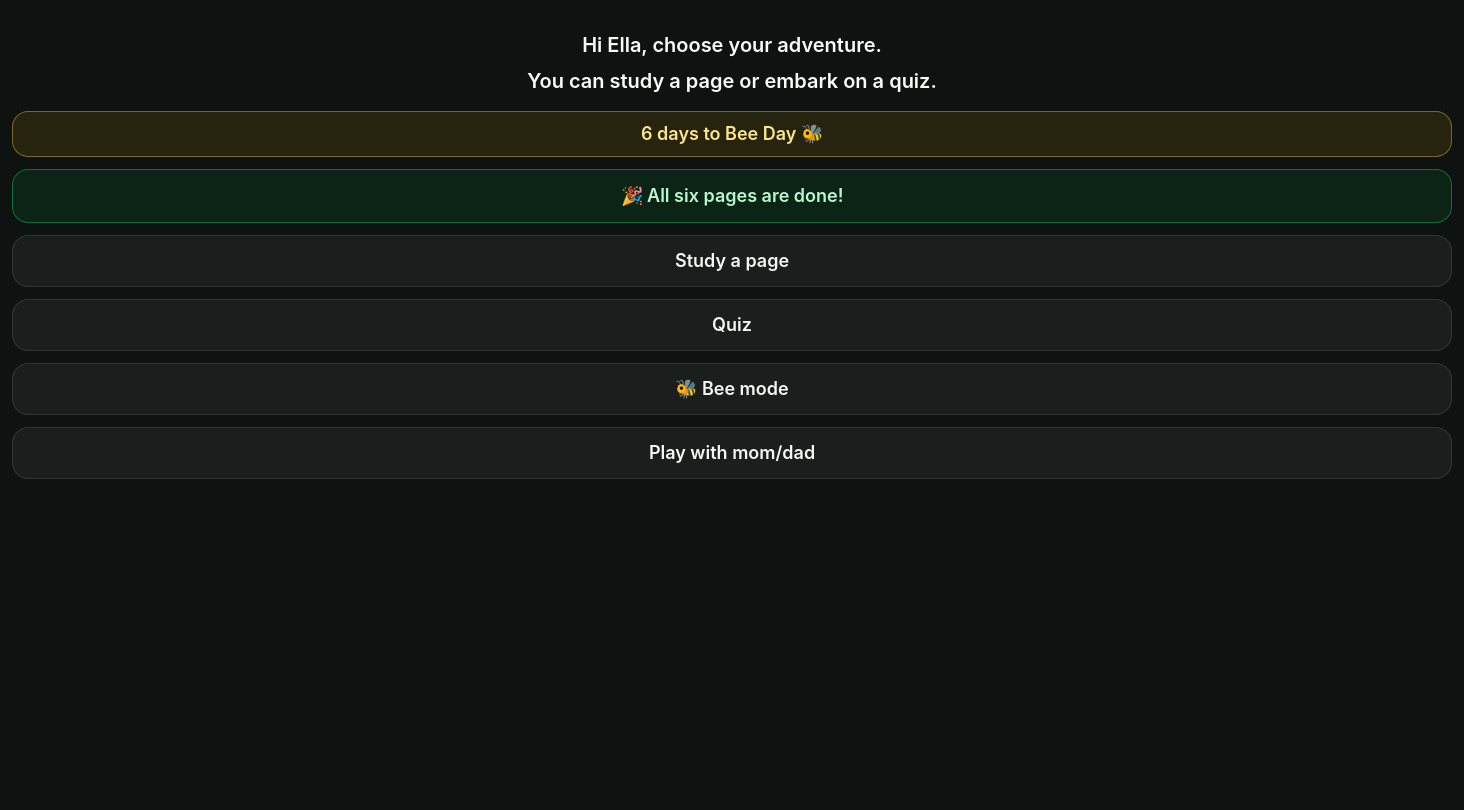
Test: choice screen › returns to the page list and plays the page line
This screenshot has width=1464, height=810.
Click the button "Study a page" at [732, 261], box [12,235,1452,287]
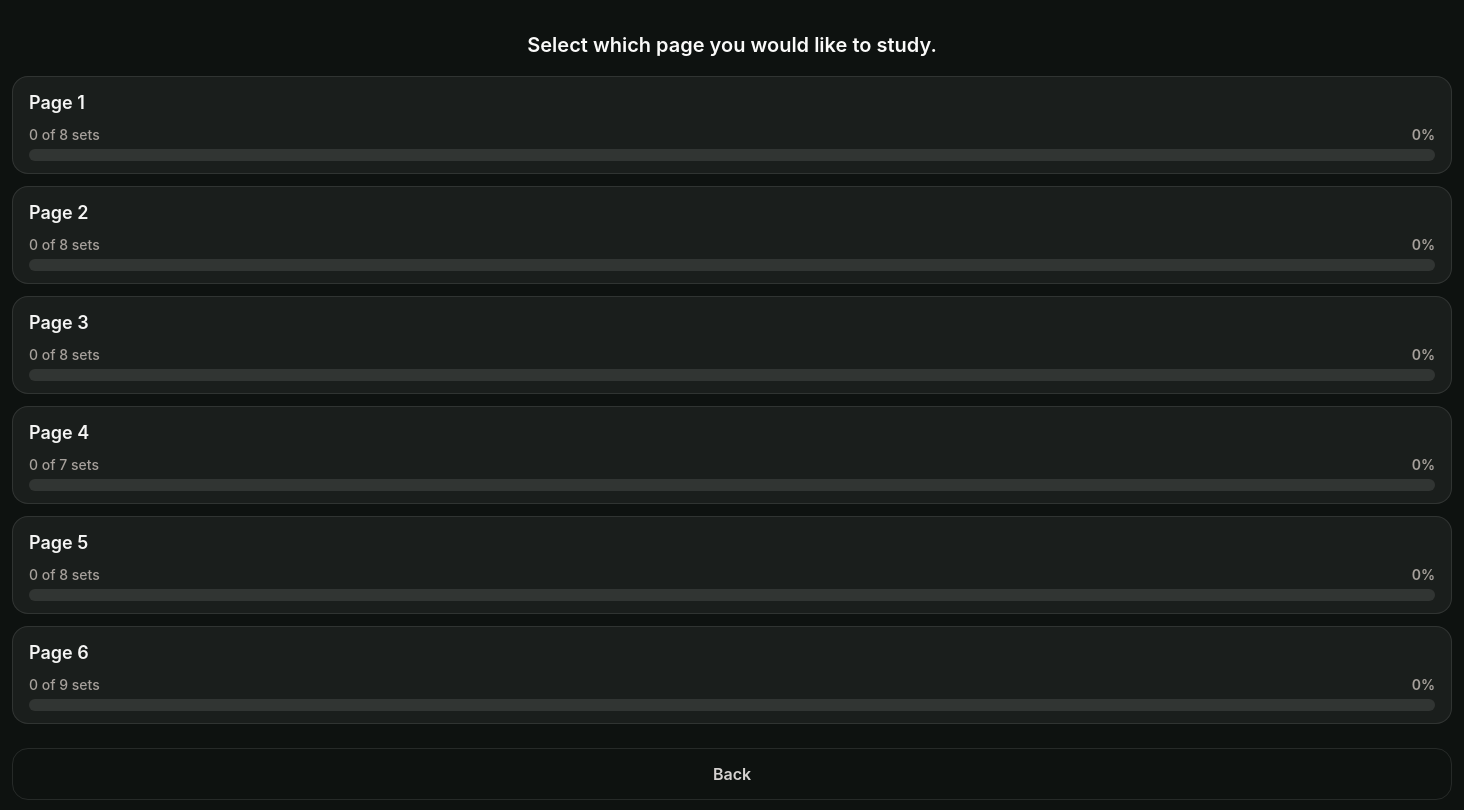
Click the button "Page 2 0 of 8 sets 0%" at [59, 212], box [12,186,1452,284]
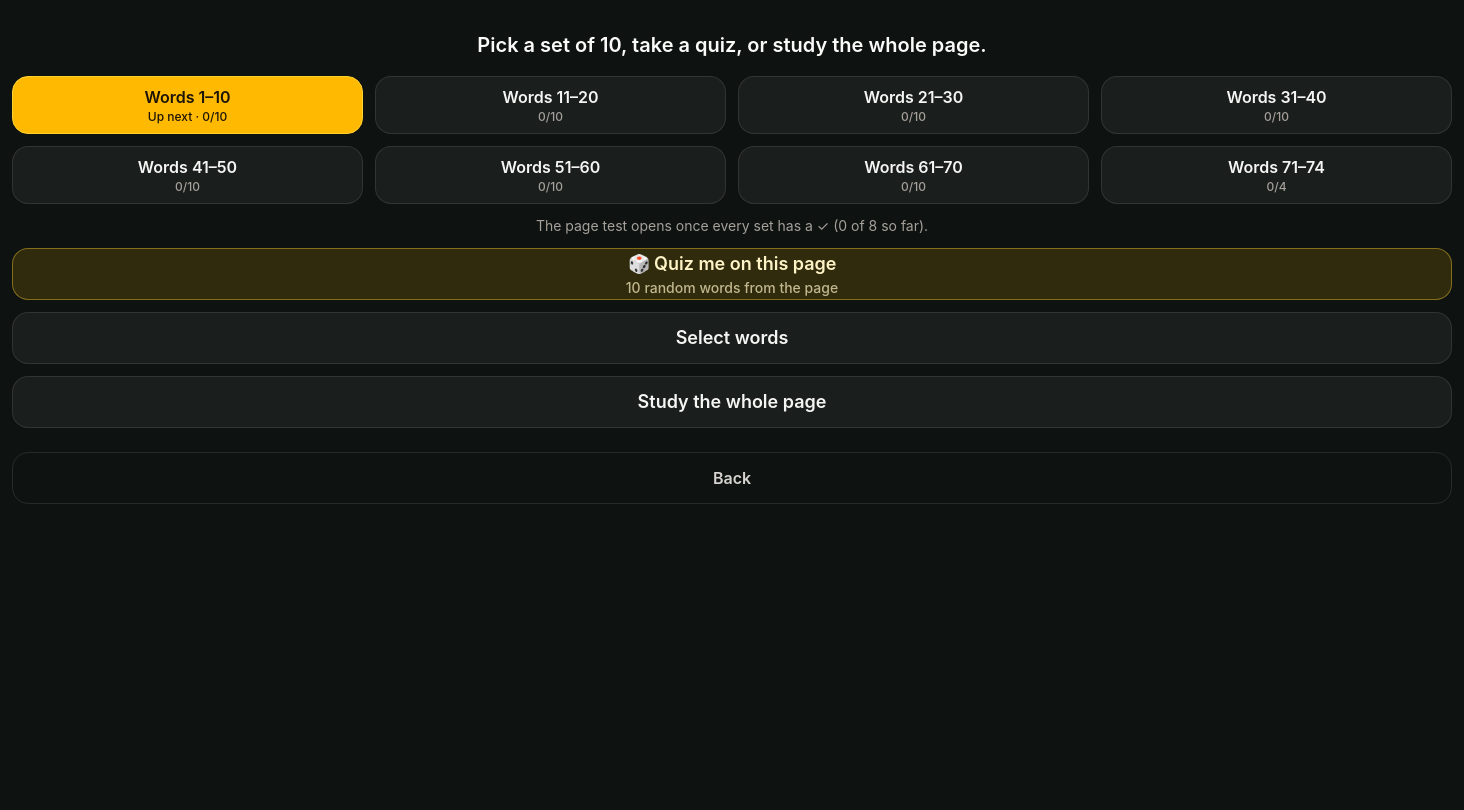
Click the button "Back" at [732, 478], box [12,452,1452,504]
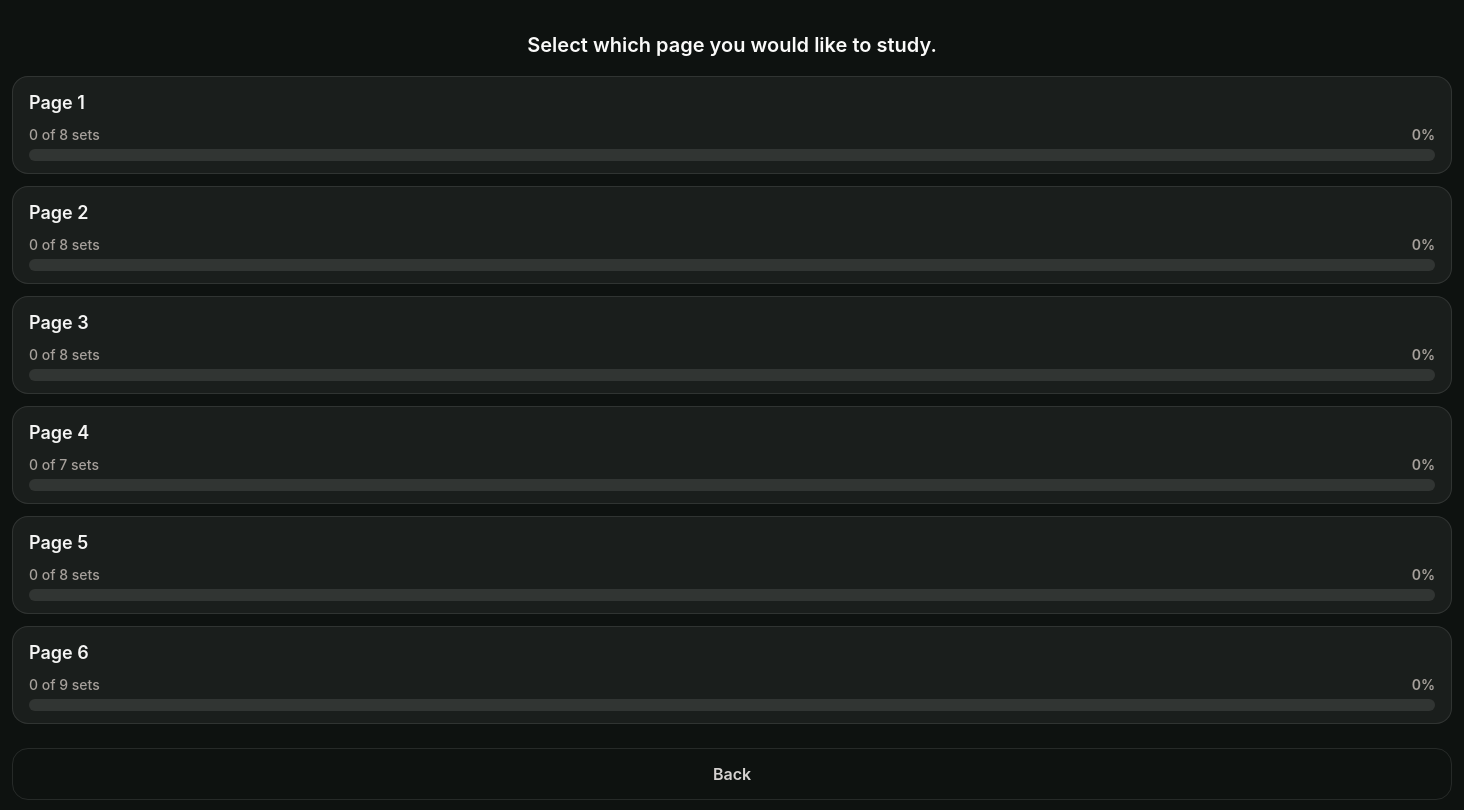
Check: the text "Select which page you would like to study." is shown, box [527,33,937,57]
